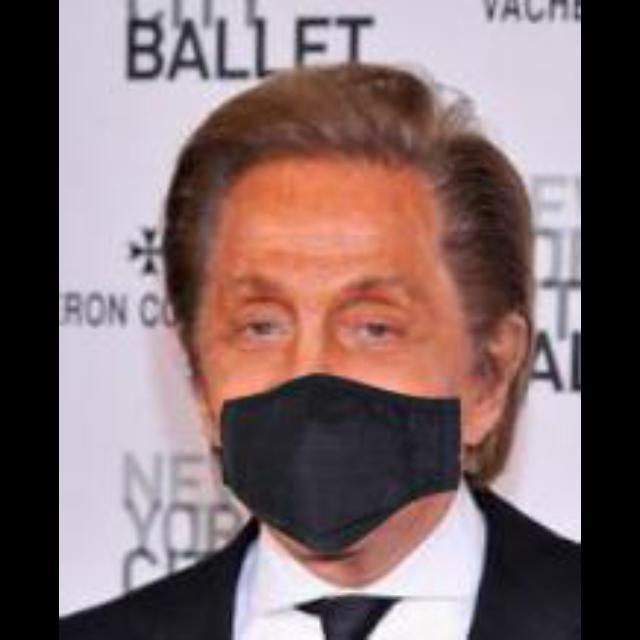suspicion: (201, 118, 465, 530)
